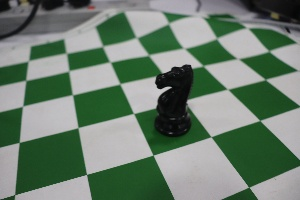black_horse: (146, 50, 201, 143)
